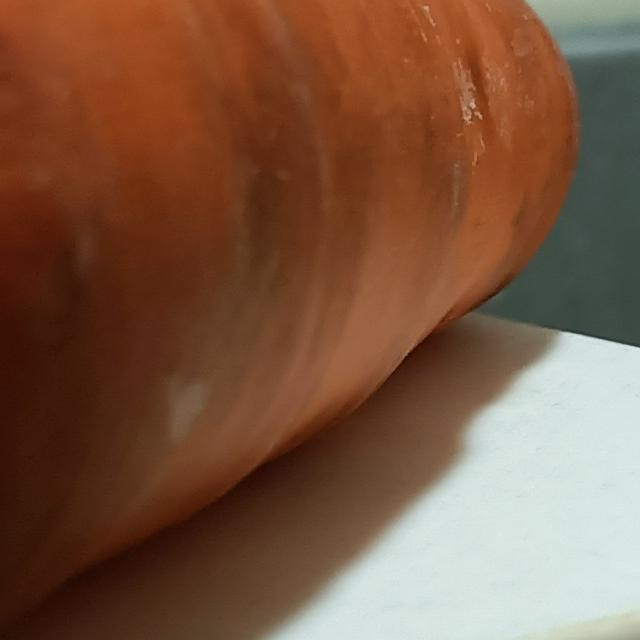carrot: (1, 1, 590, 640)
